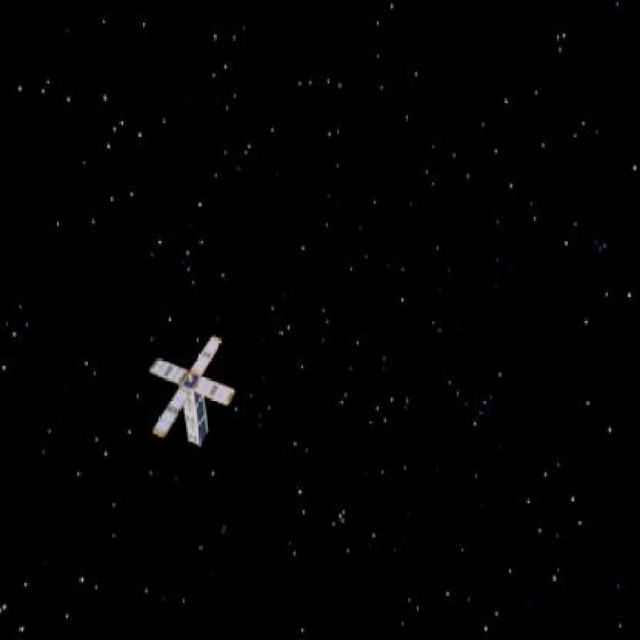satellite: (142, 336, 240, 452)
